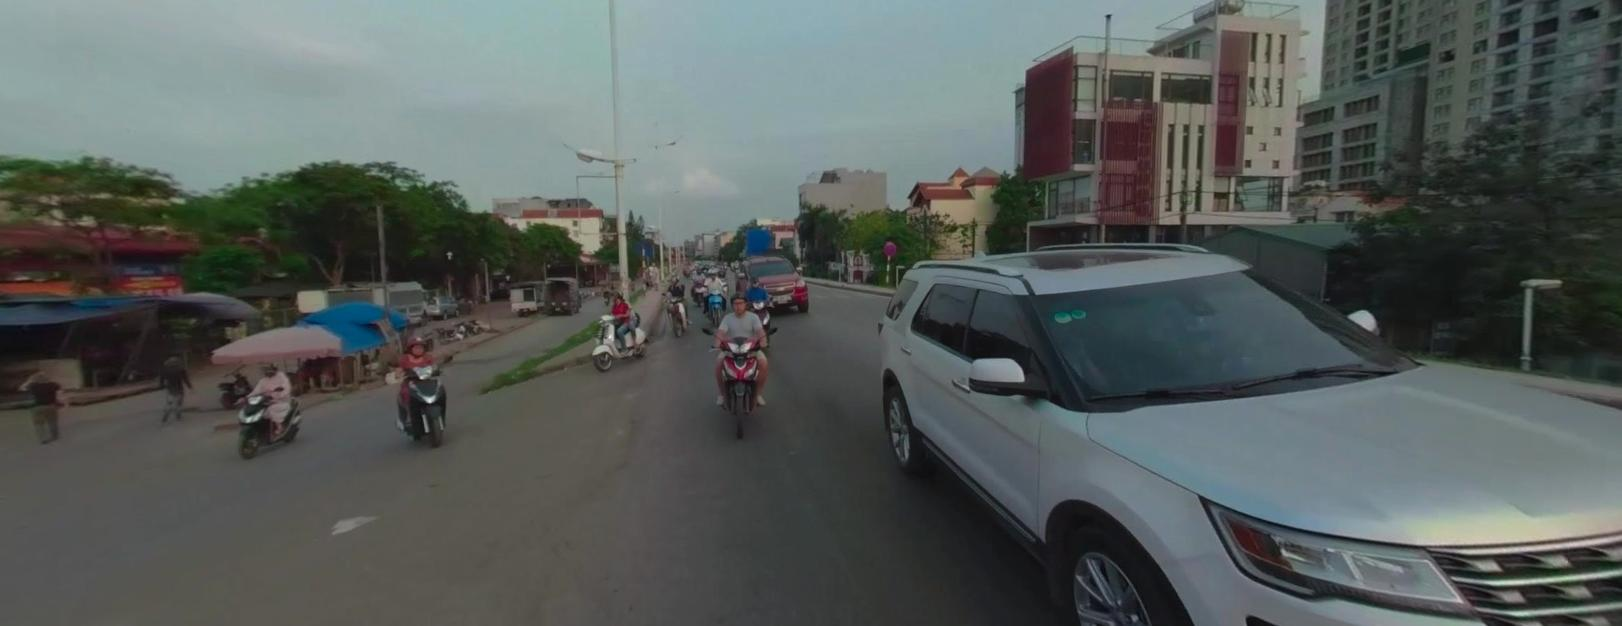Cam dung va do: (884, 240, 896, 254)
